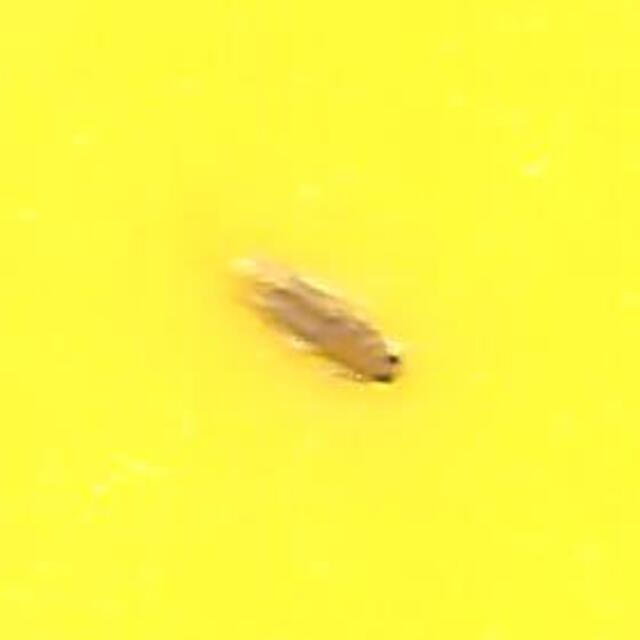Trichoptera: (229, 237, 411, 403)
